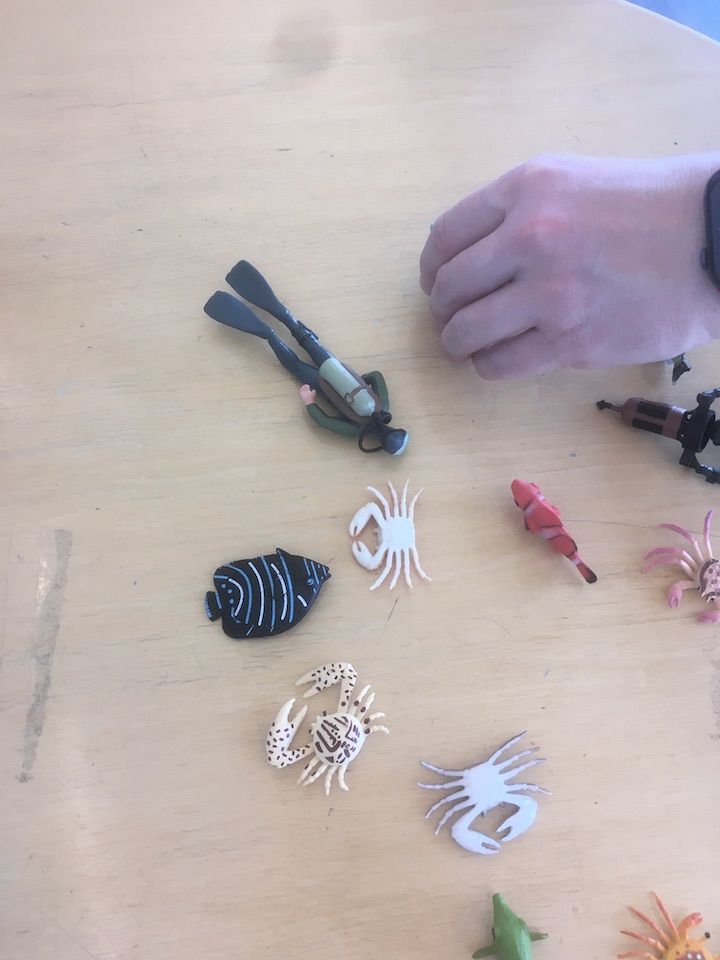crab: (264, 656, 393, 800), (416, 726, 550, 858), (341, 476, 441, 598), (639, 505, 720, 629), (616, 887, 720, 960)
diver: (199, 258, 417, 463), (595, 384, 720, 487)
fish: (198, 545, 335, 643), (504, 471, 603, 590), (470, 889, 549, 960)
